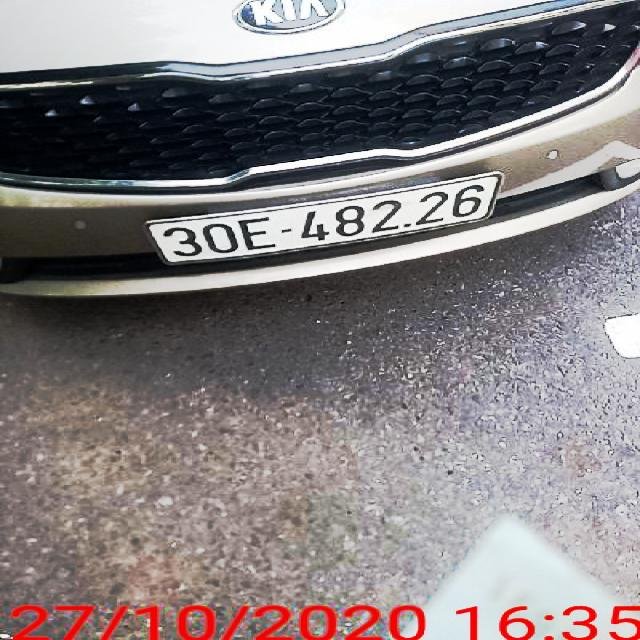license_plate: (150, 174, 503, 266)
